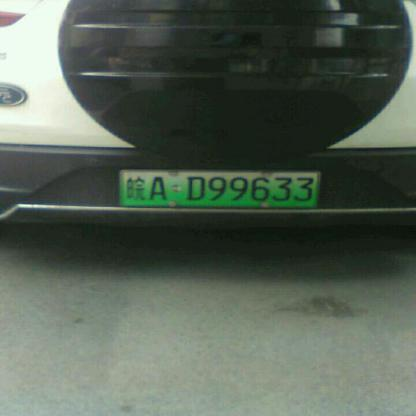lp: (119, 170, 317, 207)
